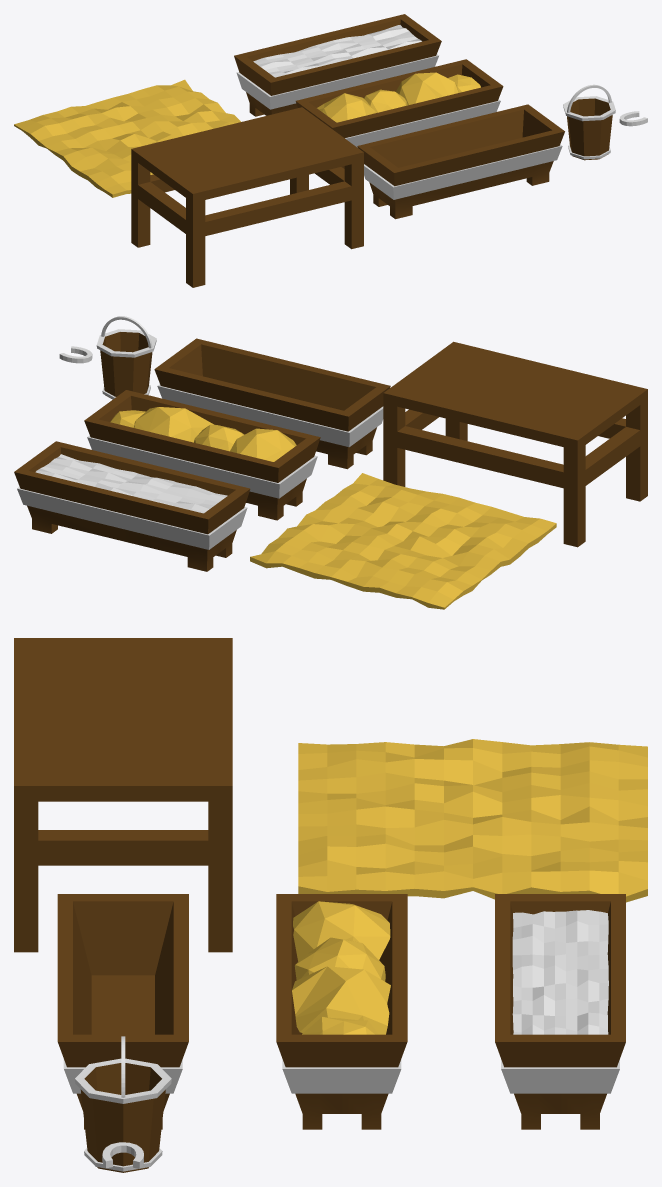
Rendered from farm_env.fbx.
3 renders of one model, top to bottom at view 1: azimuth 30°, elevation 25°; view 2: azimuth 150°, elevation 25°; view 3: azimuth 270°, elevation 25°, orthographic. The views are drawn at different scales.
Visible parts, largest first — view 1: table, trough_empty, trough_water, Plane, trough_hay, basket; view 2: table, Plane, trough_water, trough_hay, trough_empty, basket; view 3: Plane, table, trough_hay, trough_water, trough_empty, basket.
Part boxes in pixels (x1,y1,x2,y2): table: (131,107,363,287); trough_empty: (357,104,564,219); trough_water: (234,14,441,116); Plane: (14,79,240,197); trough_hay: (295,59,503,168); basket: (563,84,615,160); table: (383,341,647,547); Plane: (250,473,556,609); trough_water: (14,441,250,571); trough_hay: (84,390,320,520); trough_empty: (154,338,390,469); basket: (96,316,156,399); Plane: (298,739,647,902); table: (14,638,232,952); trough_hay: (276,894,407,1129); trough_water: (495,894,625,1129); trough_empty: (57,894,188,1129); basket: (75,1036,171,1172).
Bounding box in the file's own units: 2255 × 420 × 1450.
